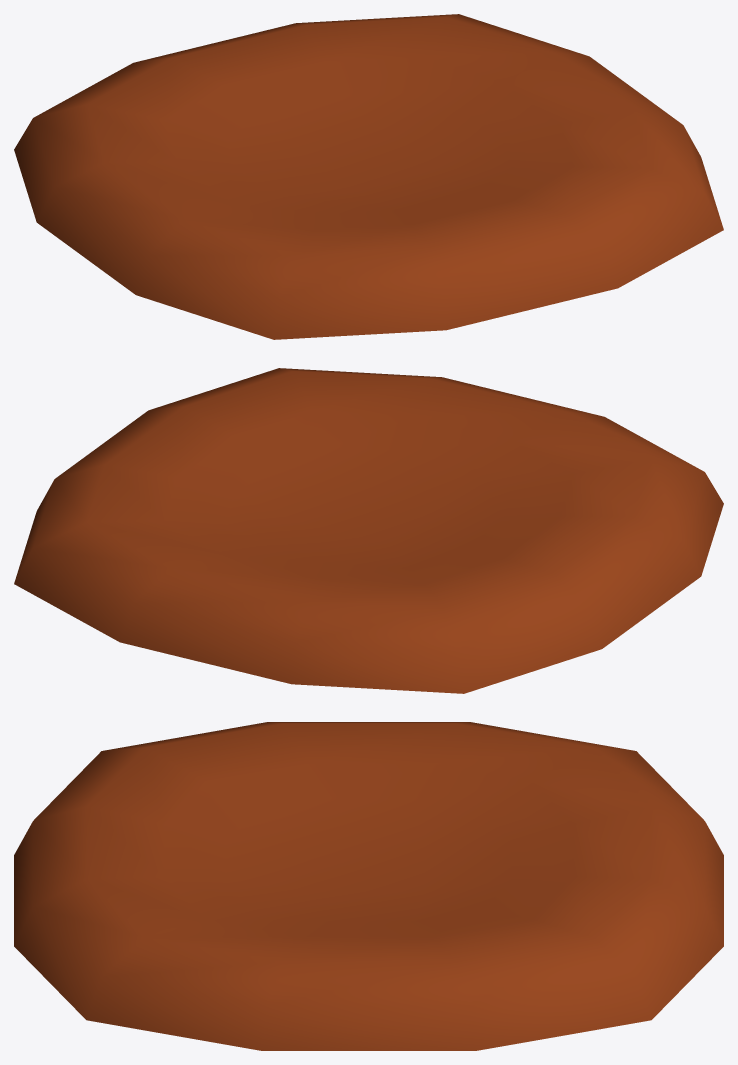
Rendered from Bed2x2.fbx.
The picture shows the model from 3 angles, top to bottom: view 1: azimuth 30°, elevation 25°; view 2: azimuth 150°, elevation 25°; view 3: azimuth 270°, elevation 25°; orthographic projection. The views are drawn at different scales.
Visible parts, largest first — view 1: Bed 2x2; view 2: Bed 2x2; view 3: Bed 2x2.
Part boxes in pixels (box(x1,y1,x2,y2)): Bed 2x2: box(14, 14, 723, 339); Bed 2x2: box(14, 368, 723, 693); Bed 2x2: box(14, 722, 723, 1050).
Bounding box in the file's own units: 400 × 400 × 36.13.
